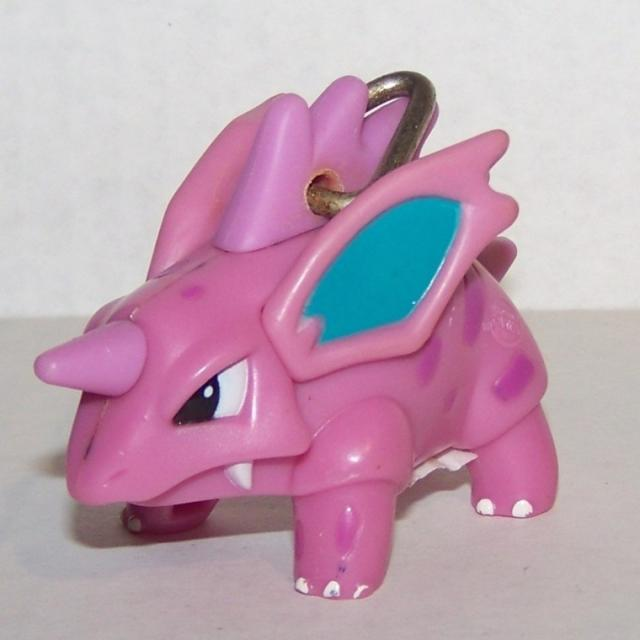Nidorino: (39, 66, 563, 598)
